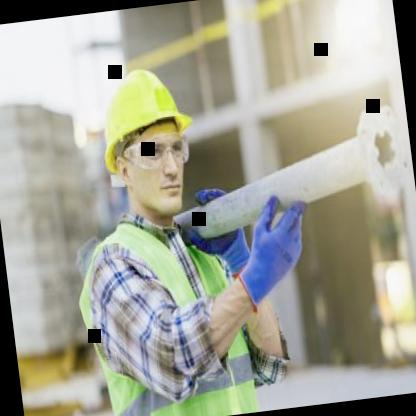helmet: (90, 54, 200, 232)
